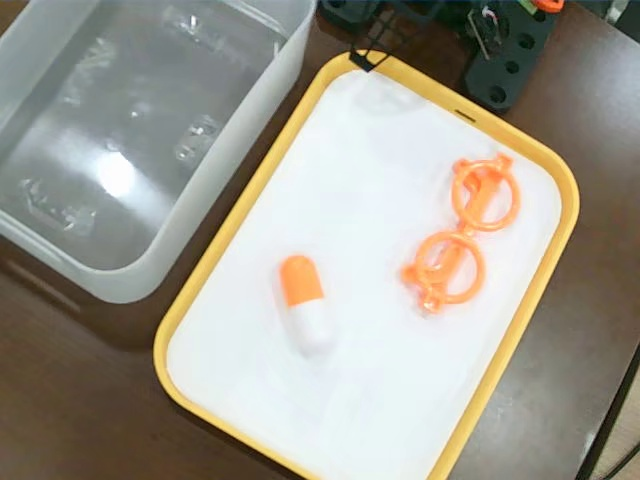pill: (277, 253, 344, 352)
